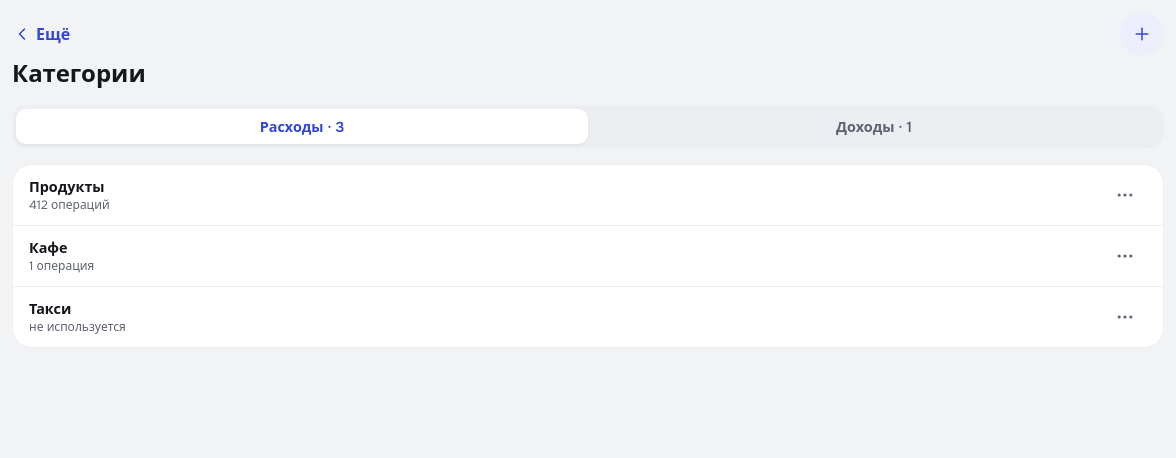
Test: CategoriesScreen › rename › shows how many operations change and prefills the name
The image size is (1176, 458).
Step 1. Click the button named "Действия: Продукты" → (1125,195), box [1103,173,1147,217]
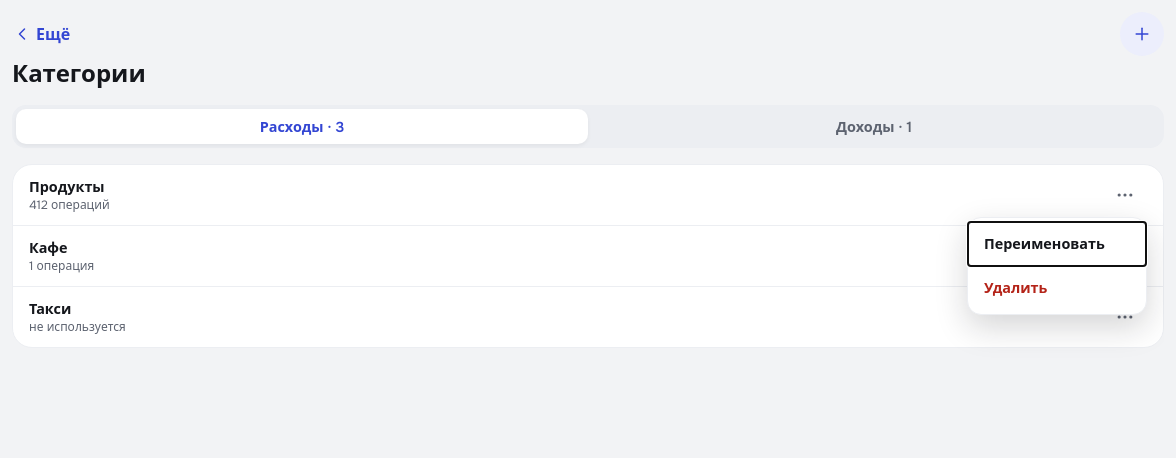
Step 2. Click the menu item "Переименовать" → (1057,244), box [968,222,1146,266]
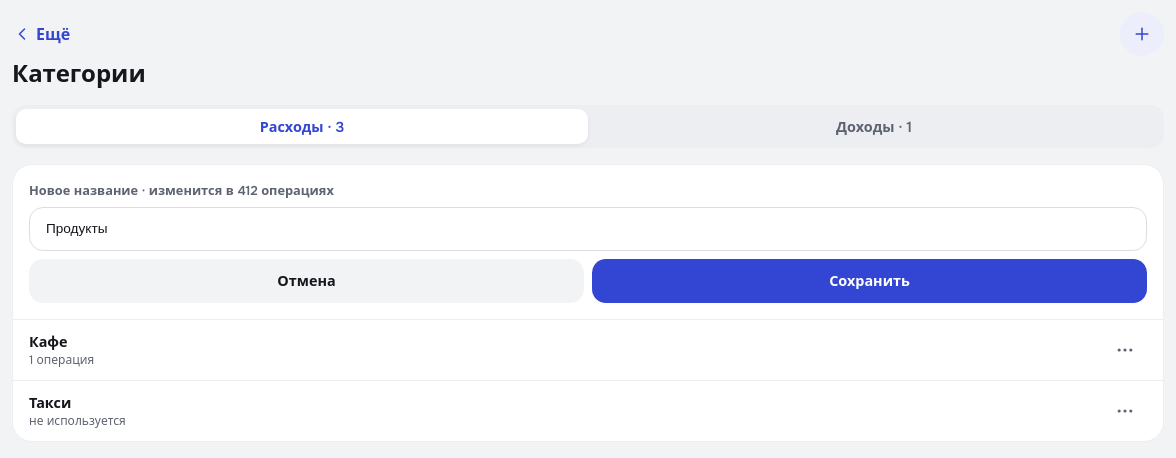
Check: the field labelled "Новое название · изменится в 412 операциях" holds "Продукты", box [29,207,1147,251]
